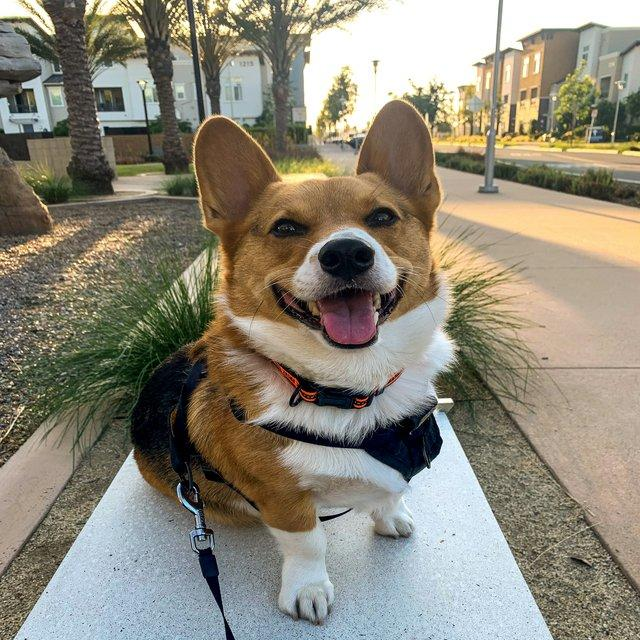corgi: (128, 98, 457, 625)
